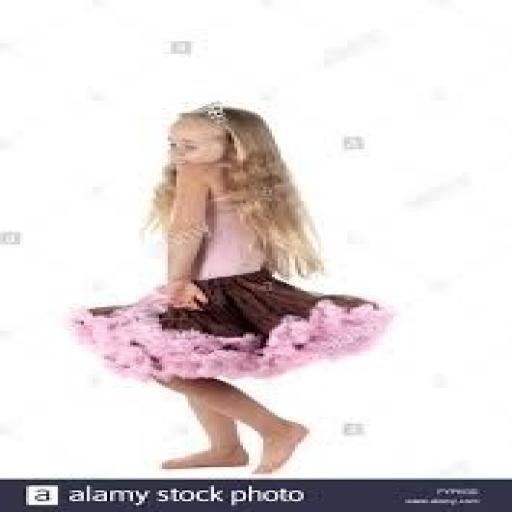dancing: (66, 101, 396, 474)
